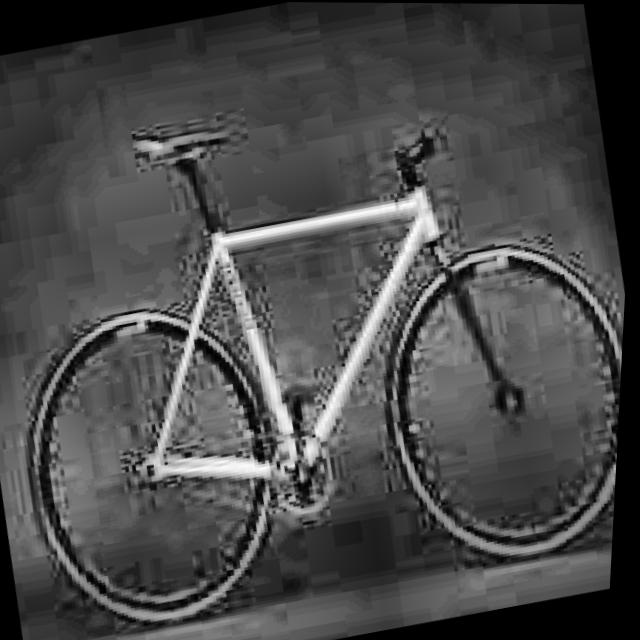motorcycle: (0, 31, 639, 640)
